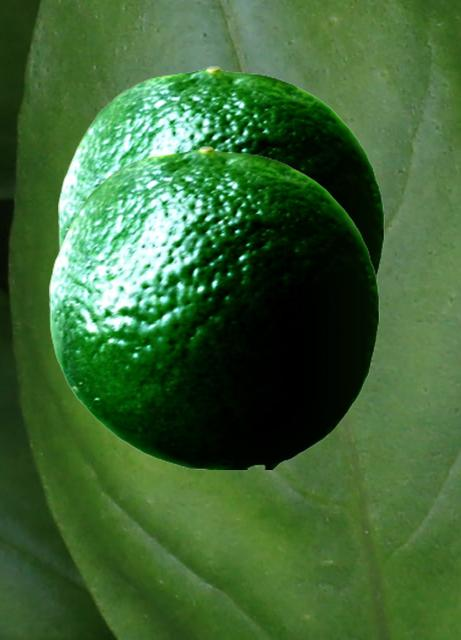calamansi: (49, 145, 378, 468), (58, 65, 383, 281)
